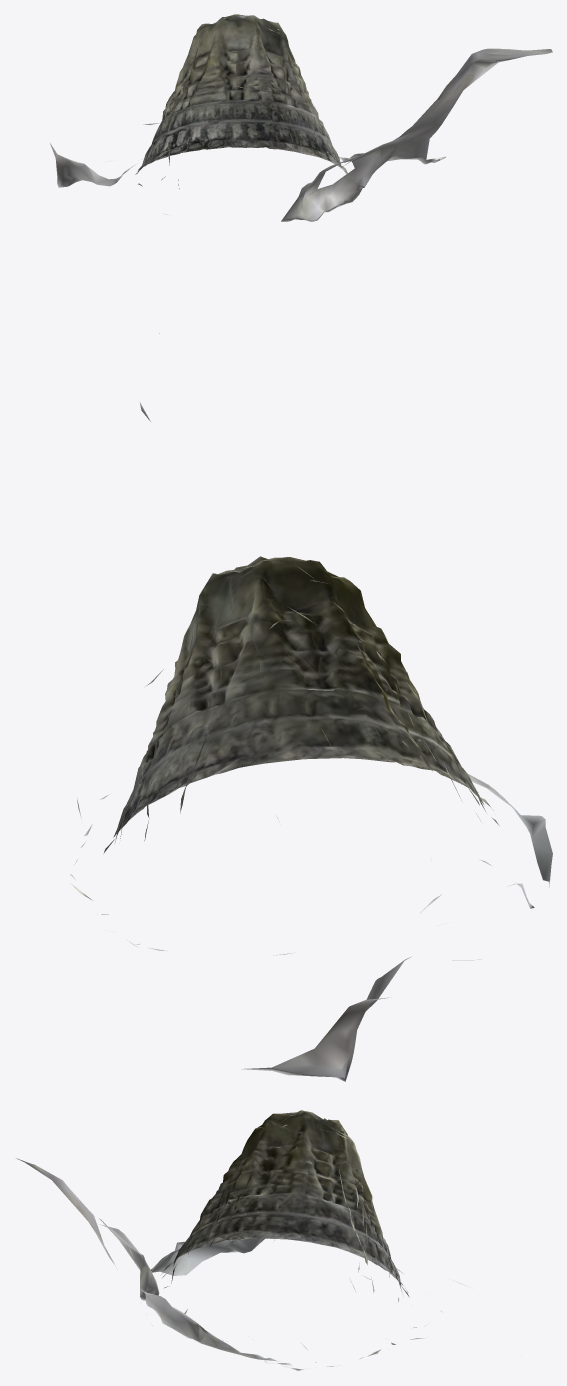
File: hall.glb
The picture shows the model from 3 angles, top to bottom: view 1: azimuth 30°, elevation 25°; view 2: azimuth 150°, elevation 25°; view 3: azimuth 270°, elevation 25°; orthographic projection. The views are drawn at different scales.
Bounding box in the file's own units: 1.79 × 1.06 × 2.02.
Materials: 1 (1 with a texture image).
